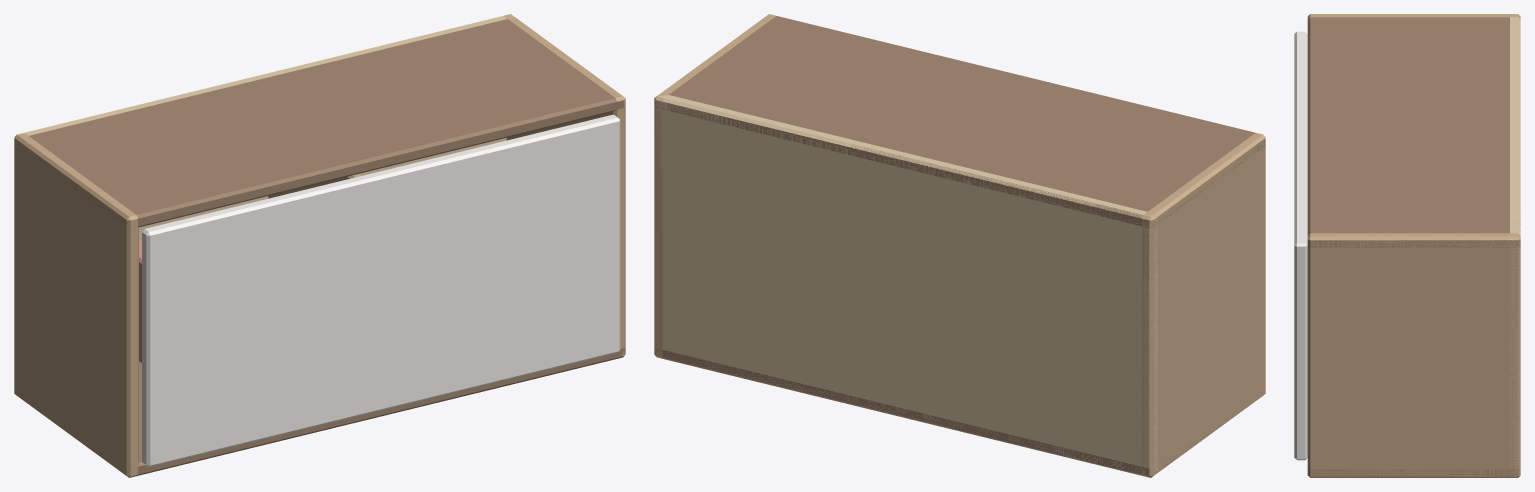
The model's file is Desk_2x1.glb.
The picture shows the model from 3 angles, left to right: view 1: azimuth 30°, elevation 25°; view 2: azimuth 150°, elevation 25°; view 3: azimuth 270°, elevation 25°; orthographic projection. The views are drawn at different scales.
Parts seen in each view (by area): view 1: WallSysDesk21_Flap, WallSysDesk21_Body; view 2: WallSysDesk21_Body; view 3: WallSysDesk21_Body, WallSysDesk21_Flap.
Part boxes in pixels (x1,y1,x2,y2): WallSysDesk21_Flap: (142, 114, 620, 466); WallSysDesk21_Body: (14, 14, 625, 477); WallSysDesk21_Body: (654, 14, 1265, 477); WallSysDesk21_Body: (1307, 14, 1520, 477); WallSysDesk21_Flap: (1294, 31, 1307, 460).
Size of the model in its own units: 0.8 by 0.4 by 0.34.
